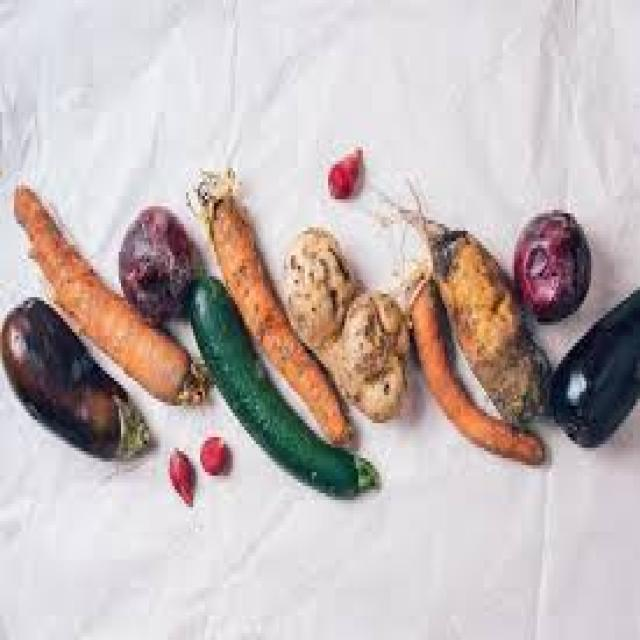food_waste: (14, 171, 405, 493), (410, 210, 638, 462), (0, 297, 149, 455), (119, 206, 202, 325), (330, 150, 361, 196), (170, 448, 193, 504), (200, 434, 228, 472)
